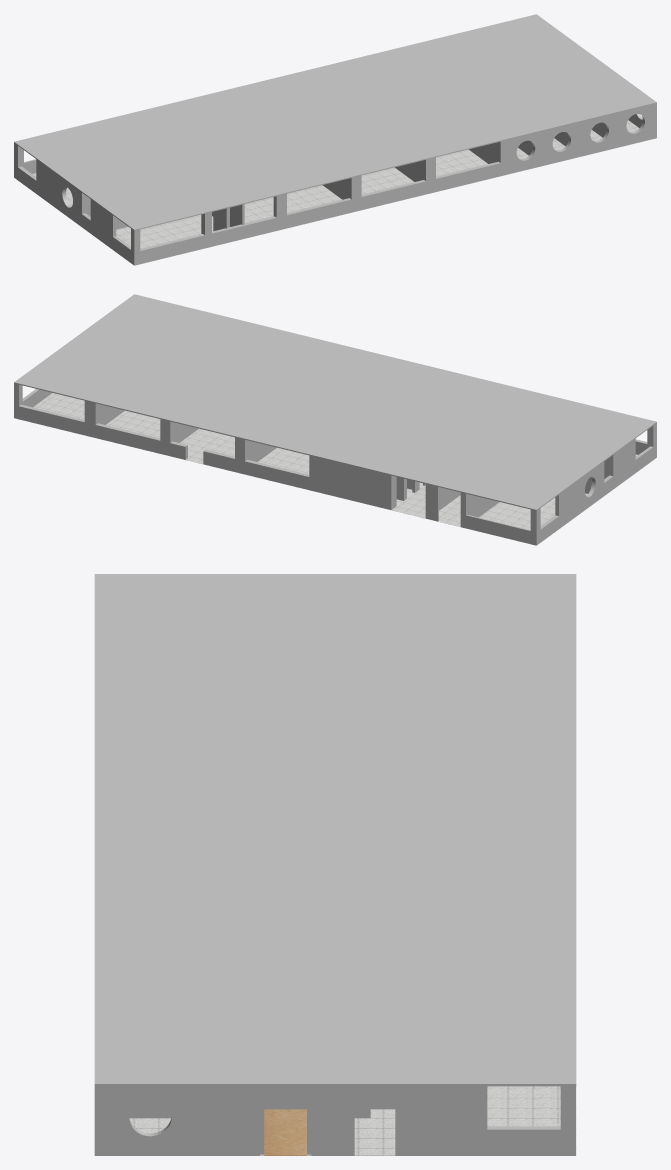
Rendered from roof_UAMT.dae.
The picture shows the model from 3 angles, top to bottom: view 1: azimuth 30°, elevation 25°; view 2: azimuth 150°, elevation 25°; view 3: azimuth 270°, elevation 25°; orthographic projection. The views are drawn at different scales.
Visible parts, largest first — view 1: roof_UAMT, walls_UAMT, floor_rooms_UAMT; view 2: roof_UAMT, walls_UAMT, floor_rooms_UAMT; view 3: roof_UAMT, walls_UAMT, floor_rooms_UAMT, floor_corridor_UAMT.
Part boxes in pixels (x1,y1,x2,y2): roof_UAMT: [14, 14, 656, 230]; walls_UAMT: [14, 103, 656, 265]; floor_rooms_UAMT: [32, 120, 654, 264]; roof_UAMT: [14, 294, 656, 510]; walls_UAMT: [14, 383, 656, 545]; floor_rooms_UAMT: [15, 393, 647, 545]; roof_UAMT: [94, 574, 576, 1086]; walls_UAMT: [94, 1086, 575, 1155]; floor_rooms_UAMT: [129, 1086, 576, 1155]; floor_corridor_UAMT: [264, 1109, 306, 1155].
Bounding box in the file's own units: 50.55 × 20.17 × 3.32.
